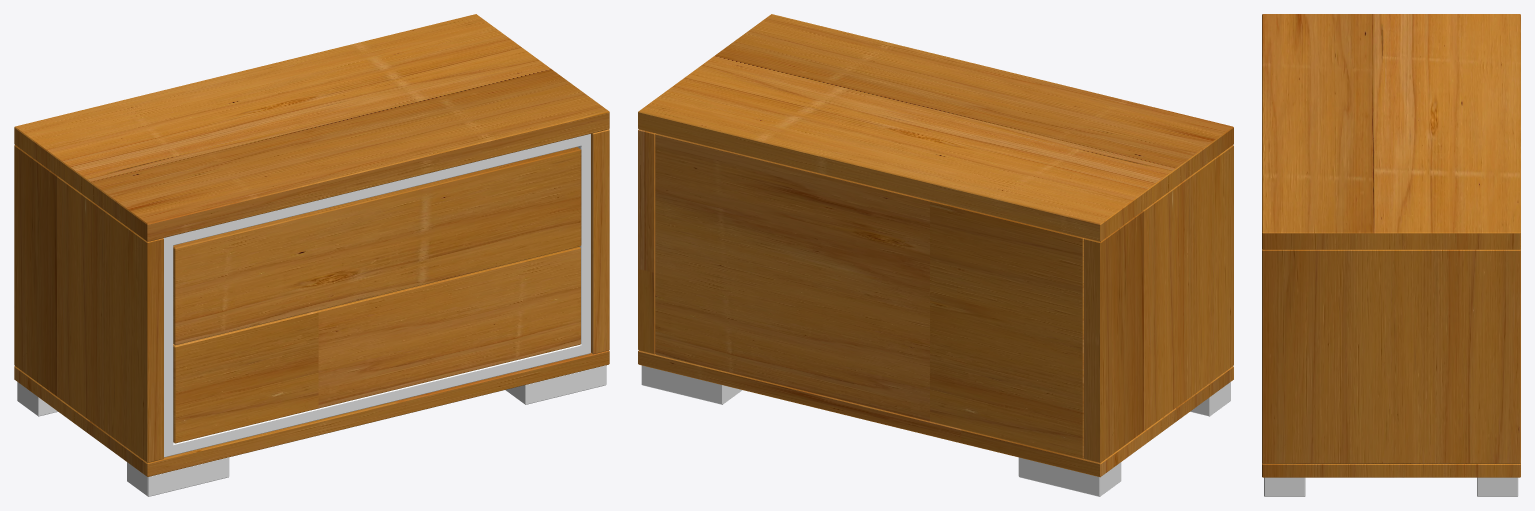
Rendered from nightstand.glb.
The picture shows the model from 3 angles, left to right: view 1: azimuth 30°, elevation 25°; view 2: azimuth 150°, elevation 25°; view 3: azimuth 270°, elevation 25°; orthographic projection. The views are drawn at different scales.
Parts seen in each view (by area): view 1: WoodFurniture_0001, StainlessSmooth_0001; view 2: WoodFurniture_0001, StainlessSmooth_0001; view 3: WoodFurniture_0001, StainlessSmooth_0001.
Boxes of the visible parts, box(x1,y1,x2,y2) form: WoodFurniture_0001: box(14, 14, 609, 476); StainlessSmooth_0001: box(17, 134, 606, 496); WoodFurniture_0001: box(638, 14, 1233, 477); StainlessSmooth_0001: box(641, 365, 1230, 496); WoodFurniture_0001: box(1262, 14, 1520, 477); StainlessSmooth_0001: box(1264, 477, 1518, 496).
Bounding box in the file's own units: 0.6 × 0.34 × 0.3.
Materials: 2 (2 with a texture image).
